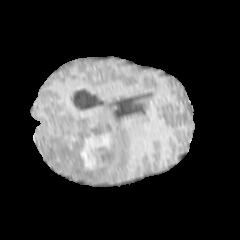glioma: (38, 107, 131, 181)
